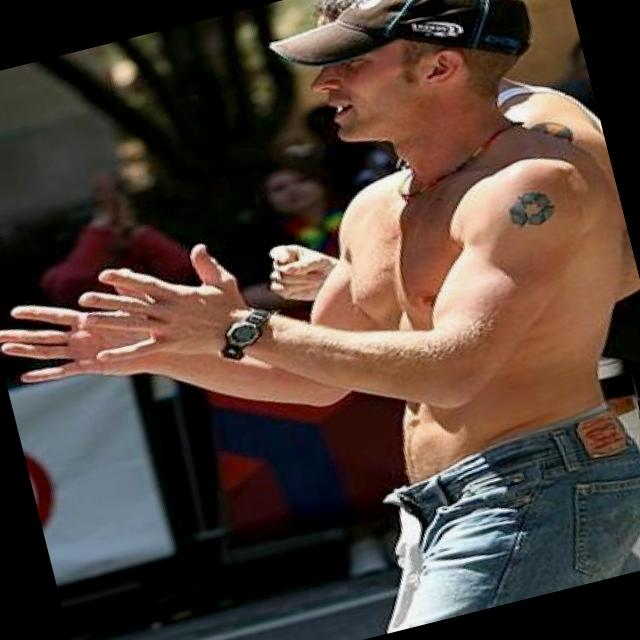no_vest: (267, 93, 640, 516)
